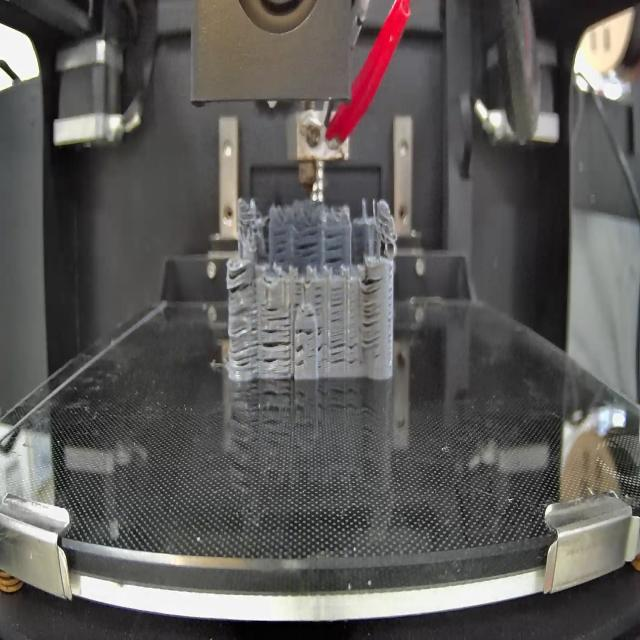cracks: (229, 302, 258, 369), (361, 276, 385, 350), (260, 326, 292, 375), (328, 331, 359, 366), (294, 220, 320, 260), (227, 261, 253, 292), (328, 282, 346, 324), (324, 231, 344, 266), (272, 228, 290, 262), (266, 301, 288, 322), (318, 326, 327, 367), (294, 340, 304, 371), (313, 283, 324, 310), (294, 281, 304, 309), (296, 325, 318, 337), (304, 309, 316, 320)
